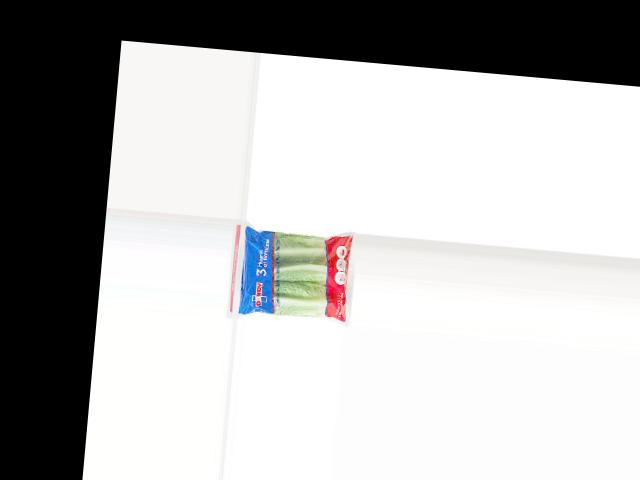lettuce: (235, 224, 358, 324)
